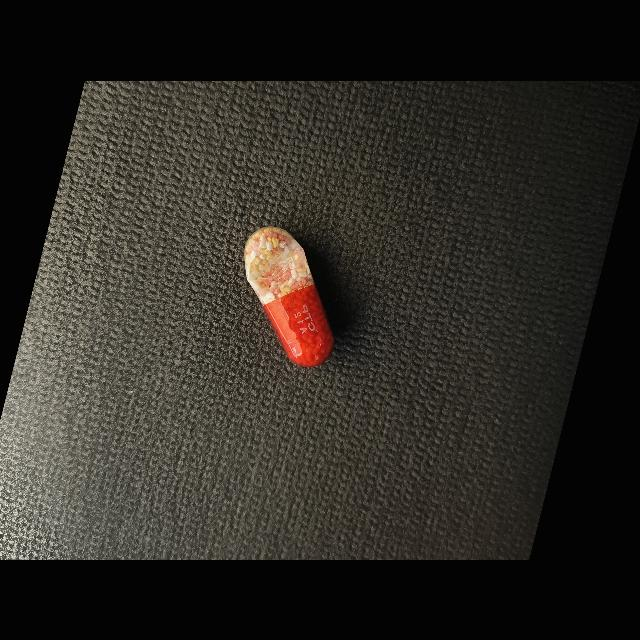Defective Capsule: (244, 226, 333, 366)
